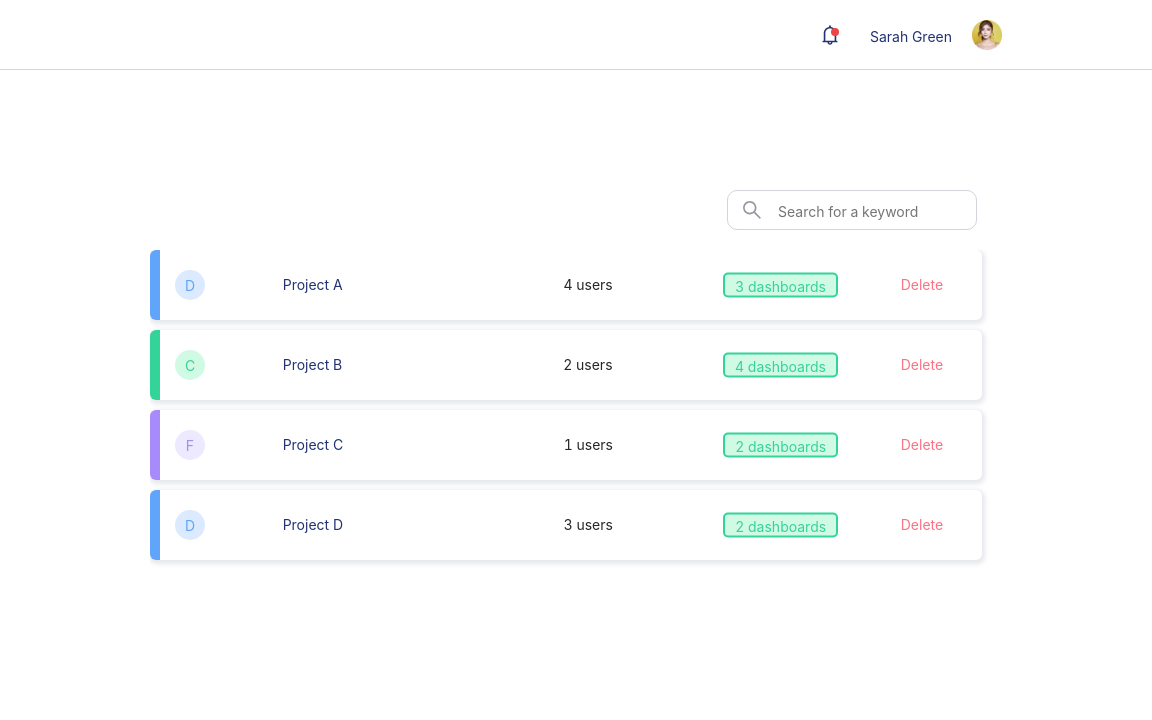
HomeView › should delete projects correctly
The image size is (1152, 720).
Step 1. Click the text with id "delete" → (922, 364), box left=901, top=356, right=943, bottom=373
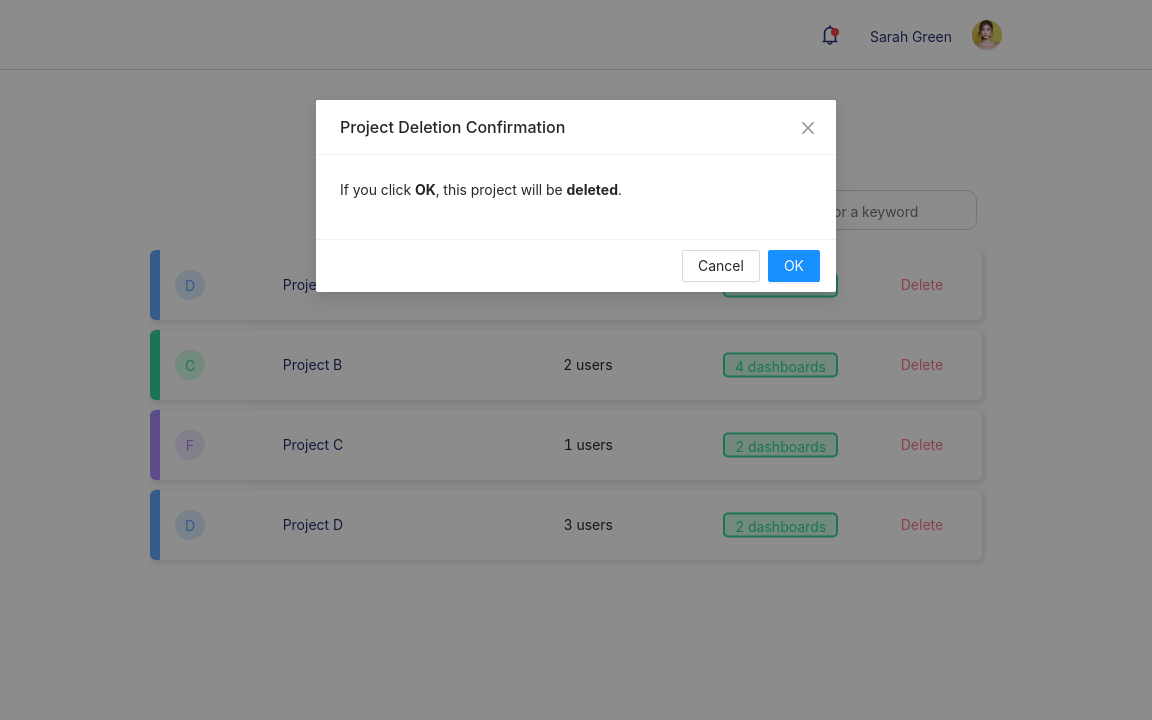
Step 2. Click the button "OK" → (794, 266), box left=768, top=250, right=820, bottom=282
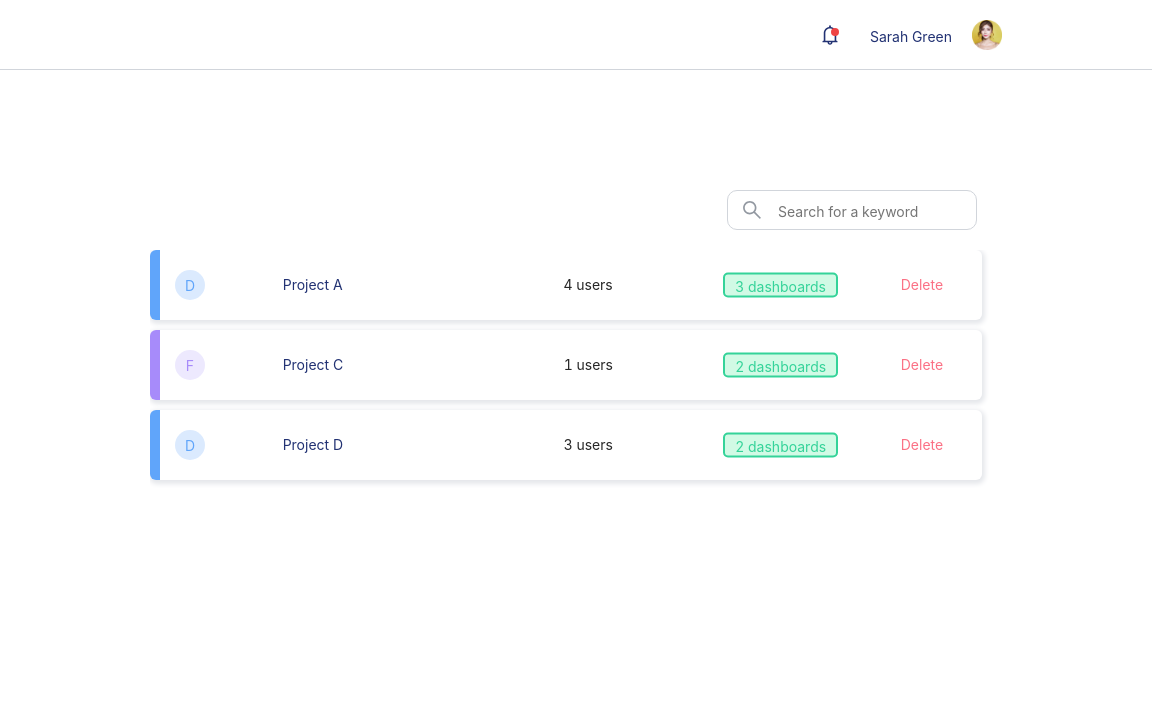
Expected: the element showing "D Project A 4 users 3 dashboards Delete" is shown, left=150, top=250, right=982, bottom=320
Result: the element showing "F Project C 1 users 2 dashboards Delete" is shown at left=150, top=330, right=982, bottom=400
Result: the element showing "D Project D 3 users 2 dashboards Delete" is shown at left=150, top=410, right=982, bottom=480
